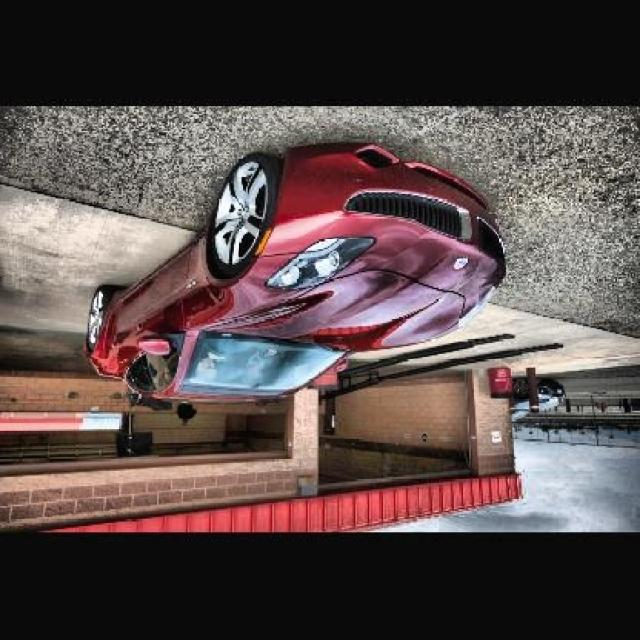maroon: (23, 136, 521, 422)
